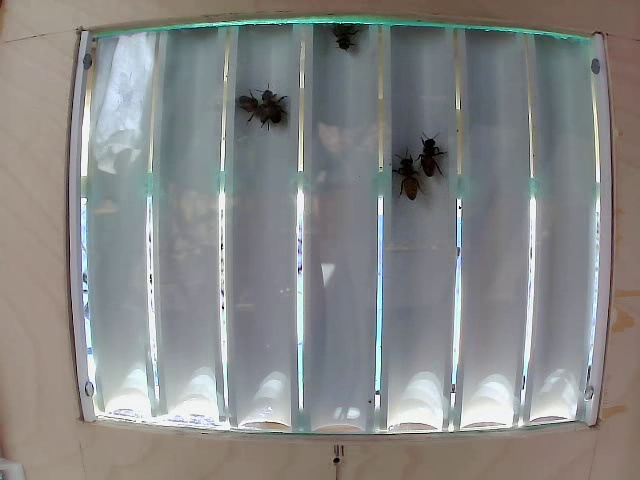bee: (378, 137, 424, 209), (328, 23, 369, 65), (411, 130, 439, 185), (240, 90, 271, 135), (260, 93, 290, 136)
